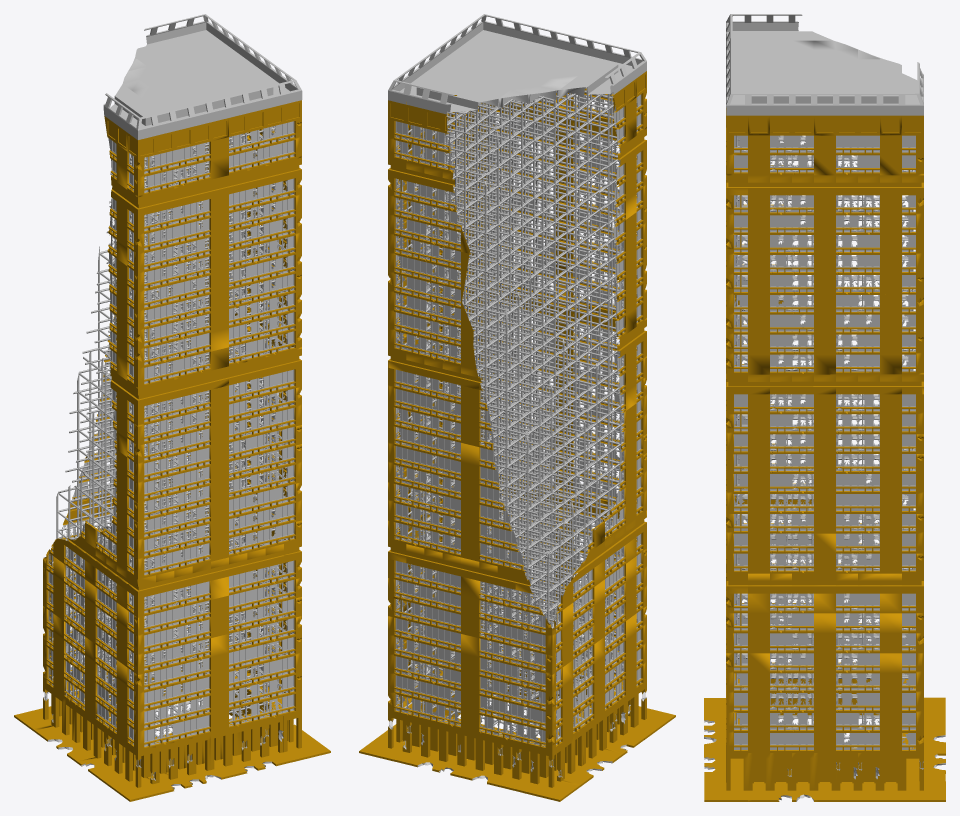
Rendered from post_apocalyptic_buildings_6.fbx.
3 views of the same model, side by side, from view 1: azimuth 30°, elevation 25°; view 2: azimuth 150°, elevation 25°; view 3: azimuth 270°, elevation 25° (orthographic). The views are drawn at different scales.
Visible parts, largest first — view 1: post_apocalyptic_buildings_6; view 2: post_apocalyptic_buildings_6; view 3: post_apocalyptic_buildings_6.
Boxes of the visible parts, x1,y1,x2,y2 form: post_apocalyptic_buildings_6: (14, 14, 330, 801); post_apocalyptic_buildings_6: (359, 14, 675, 801); post_apocalyptic_buildings_6: (704, 14, 945, 801).
Bounding box in the file's own units: 77.04 × 245 × 77.04.
